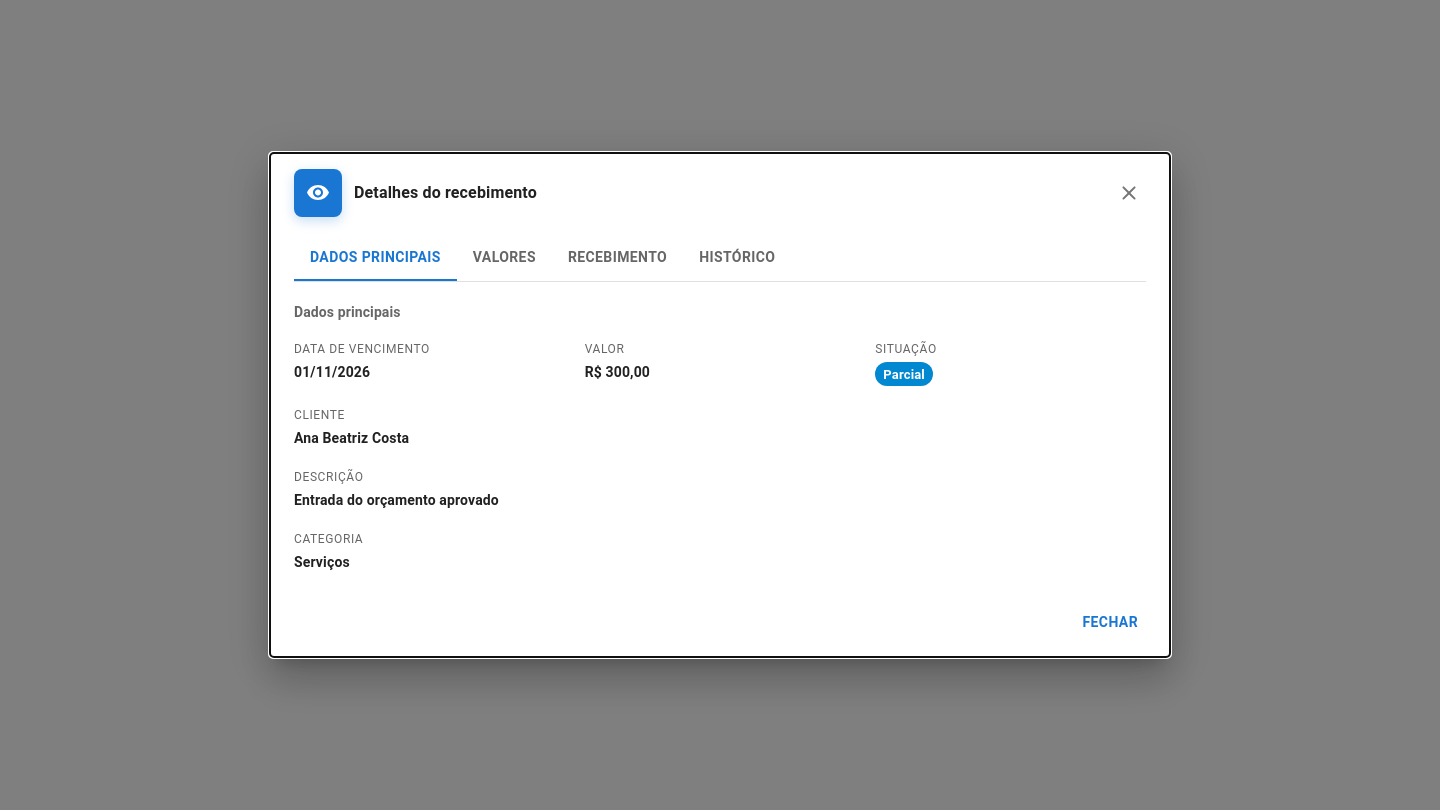
Scenario: DetalhesDialog › aba Recebimento mostra data de recebimento e método
The image size is (1440, 810).
Step 1. Click the tab "Recebimento" → (618, 257), box left=552, top=233, right=683, bottom=281
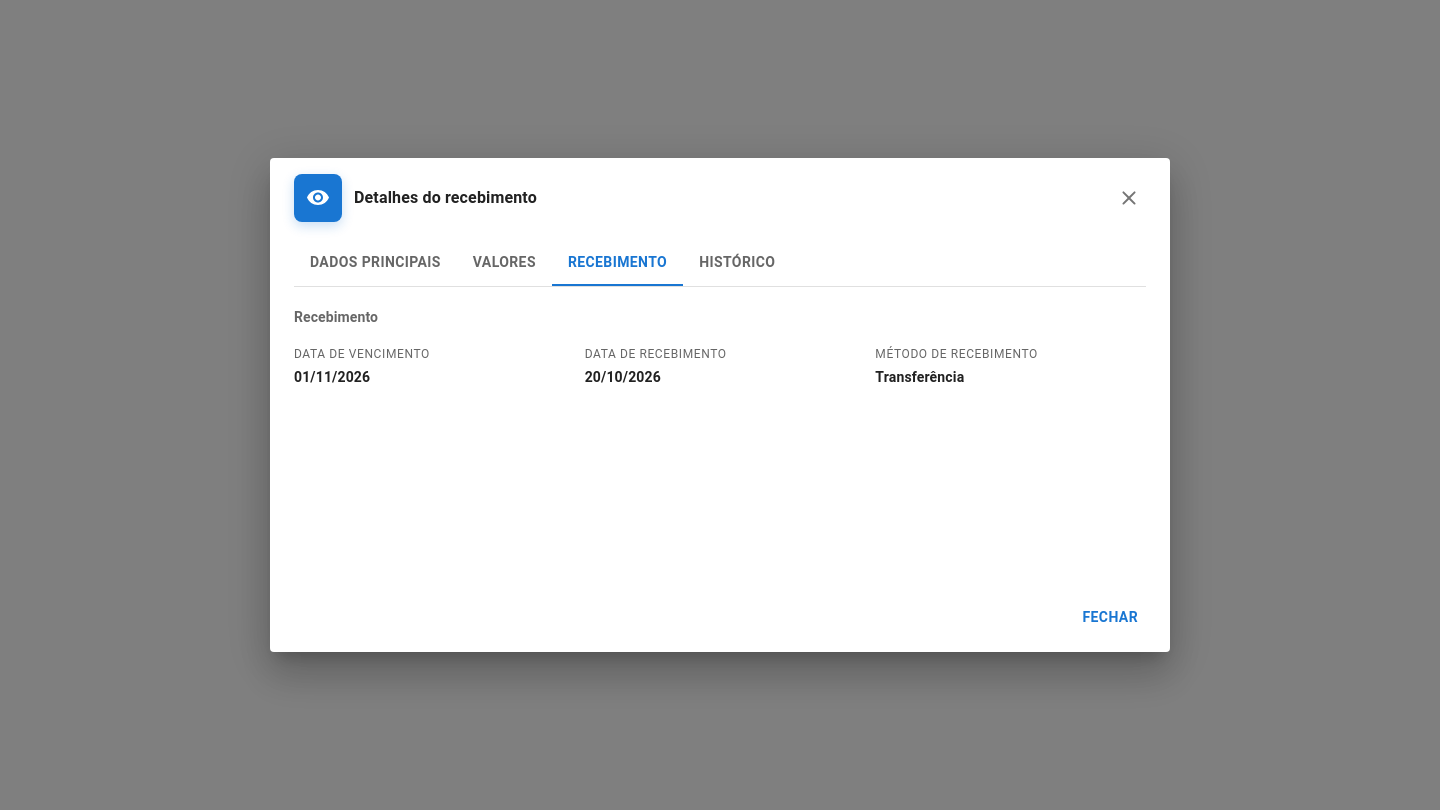
expect the text "Data de recebimento" is shown: met, box left=585, top=347, right=727, bottom=361
expect the text "20/10/2026" is shown: met, box left=585, top=369, right=661, bottom=385
expect the text "Método de recebimento" is shown: met, box left=875, top=347, right=1038, bottom=361
